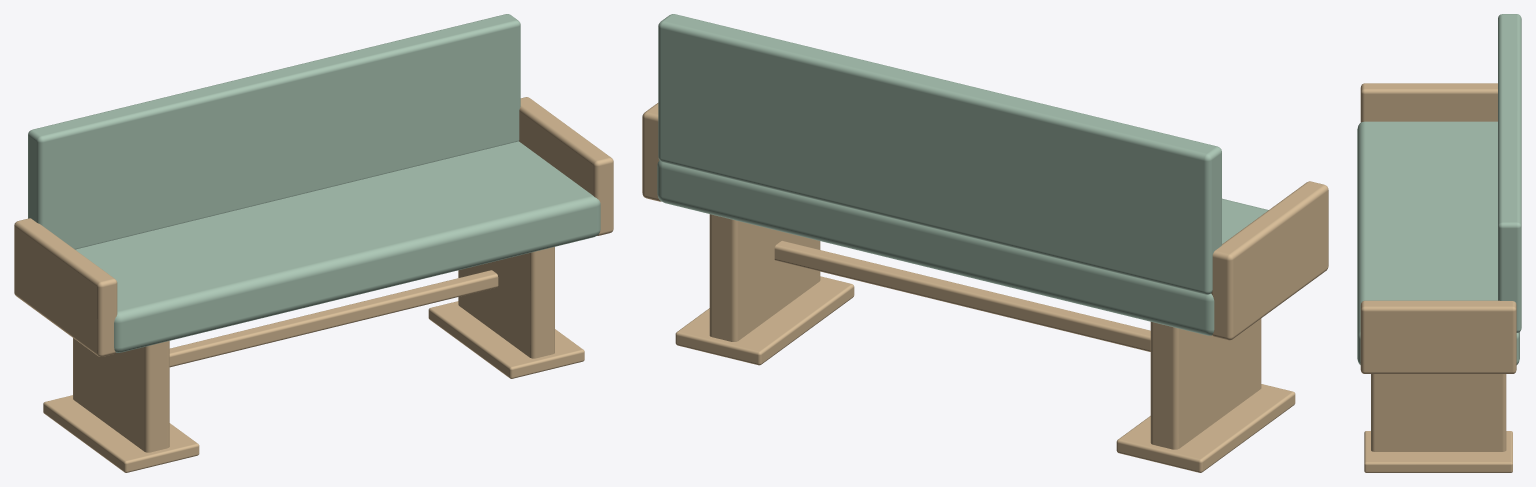
Rendered from hearing-aid-and-audiology-clinic-upholstered-waiting-b-987e352e__31764.glb.
3 views of the same model, side by side, from view 1: azimuth 30°, elevation 25°; view 2: azimuth 150°, elevation 25°; view 3: azimuth 270°, elevation 25° (orthographic). The views are drawn at different scales.
Visible parts, largest first — view 1: upholstered-waiting-bench; view 2: upholstered-waiting-bench; view 3: upholstered-waiting-bench.
Part boxes in pixels (x1,y1,x2,y2): upholstered-waiting-bench: (14, 14, 613, 472); upholstered-waiting-bench: (642, 14, 1328, 472); upholstered-waiting-bench: (1357, 14, 1521, 472).
Size of the model in its own units: 1.58 by 0.8301 by 0.4849.
